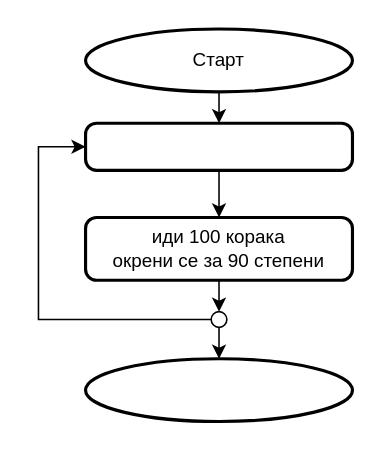
The diagram is 382 pixels wide and 449 high, and some of its shapes have lost their labels. Each missing label, with the box of its shape:
Крај: (83, 356, 353, 422)
понови 4 пута: (83, 121, 353, 171)
